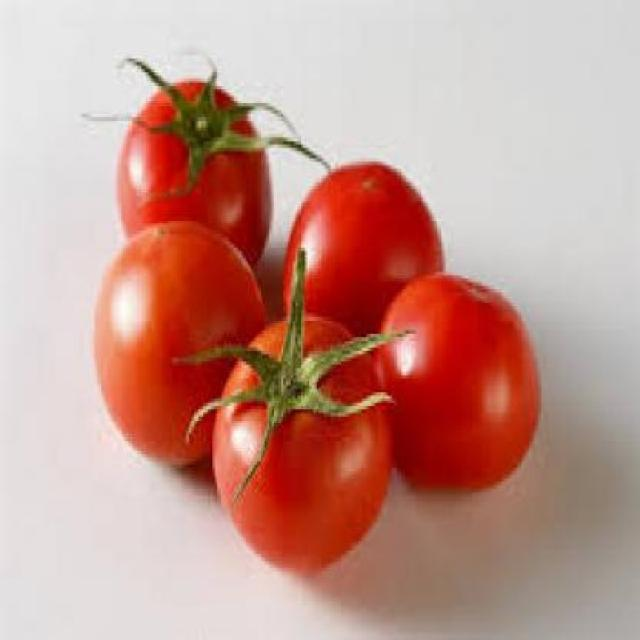kirmizi: (96, 61, 535, 588)
